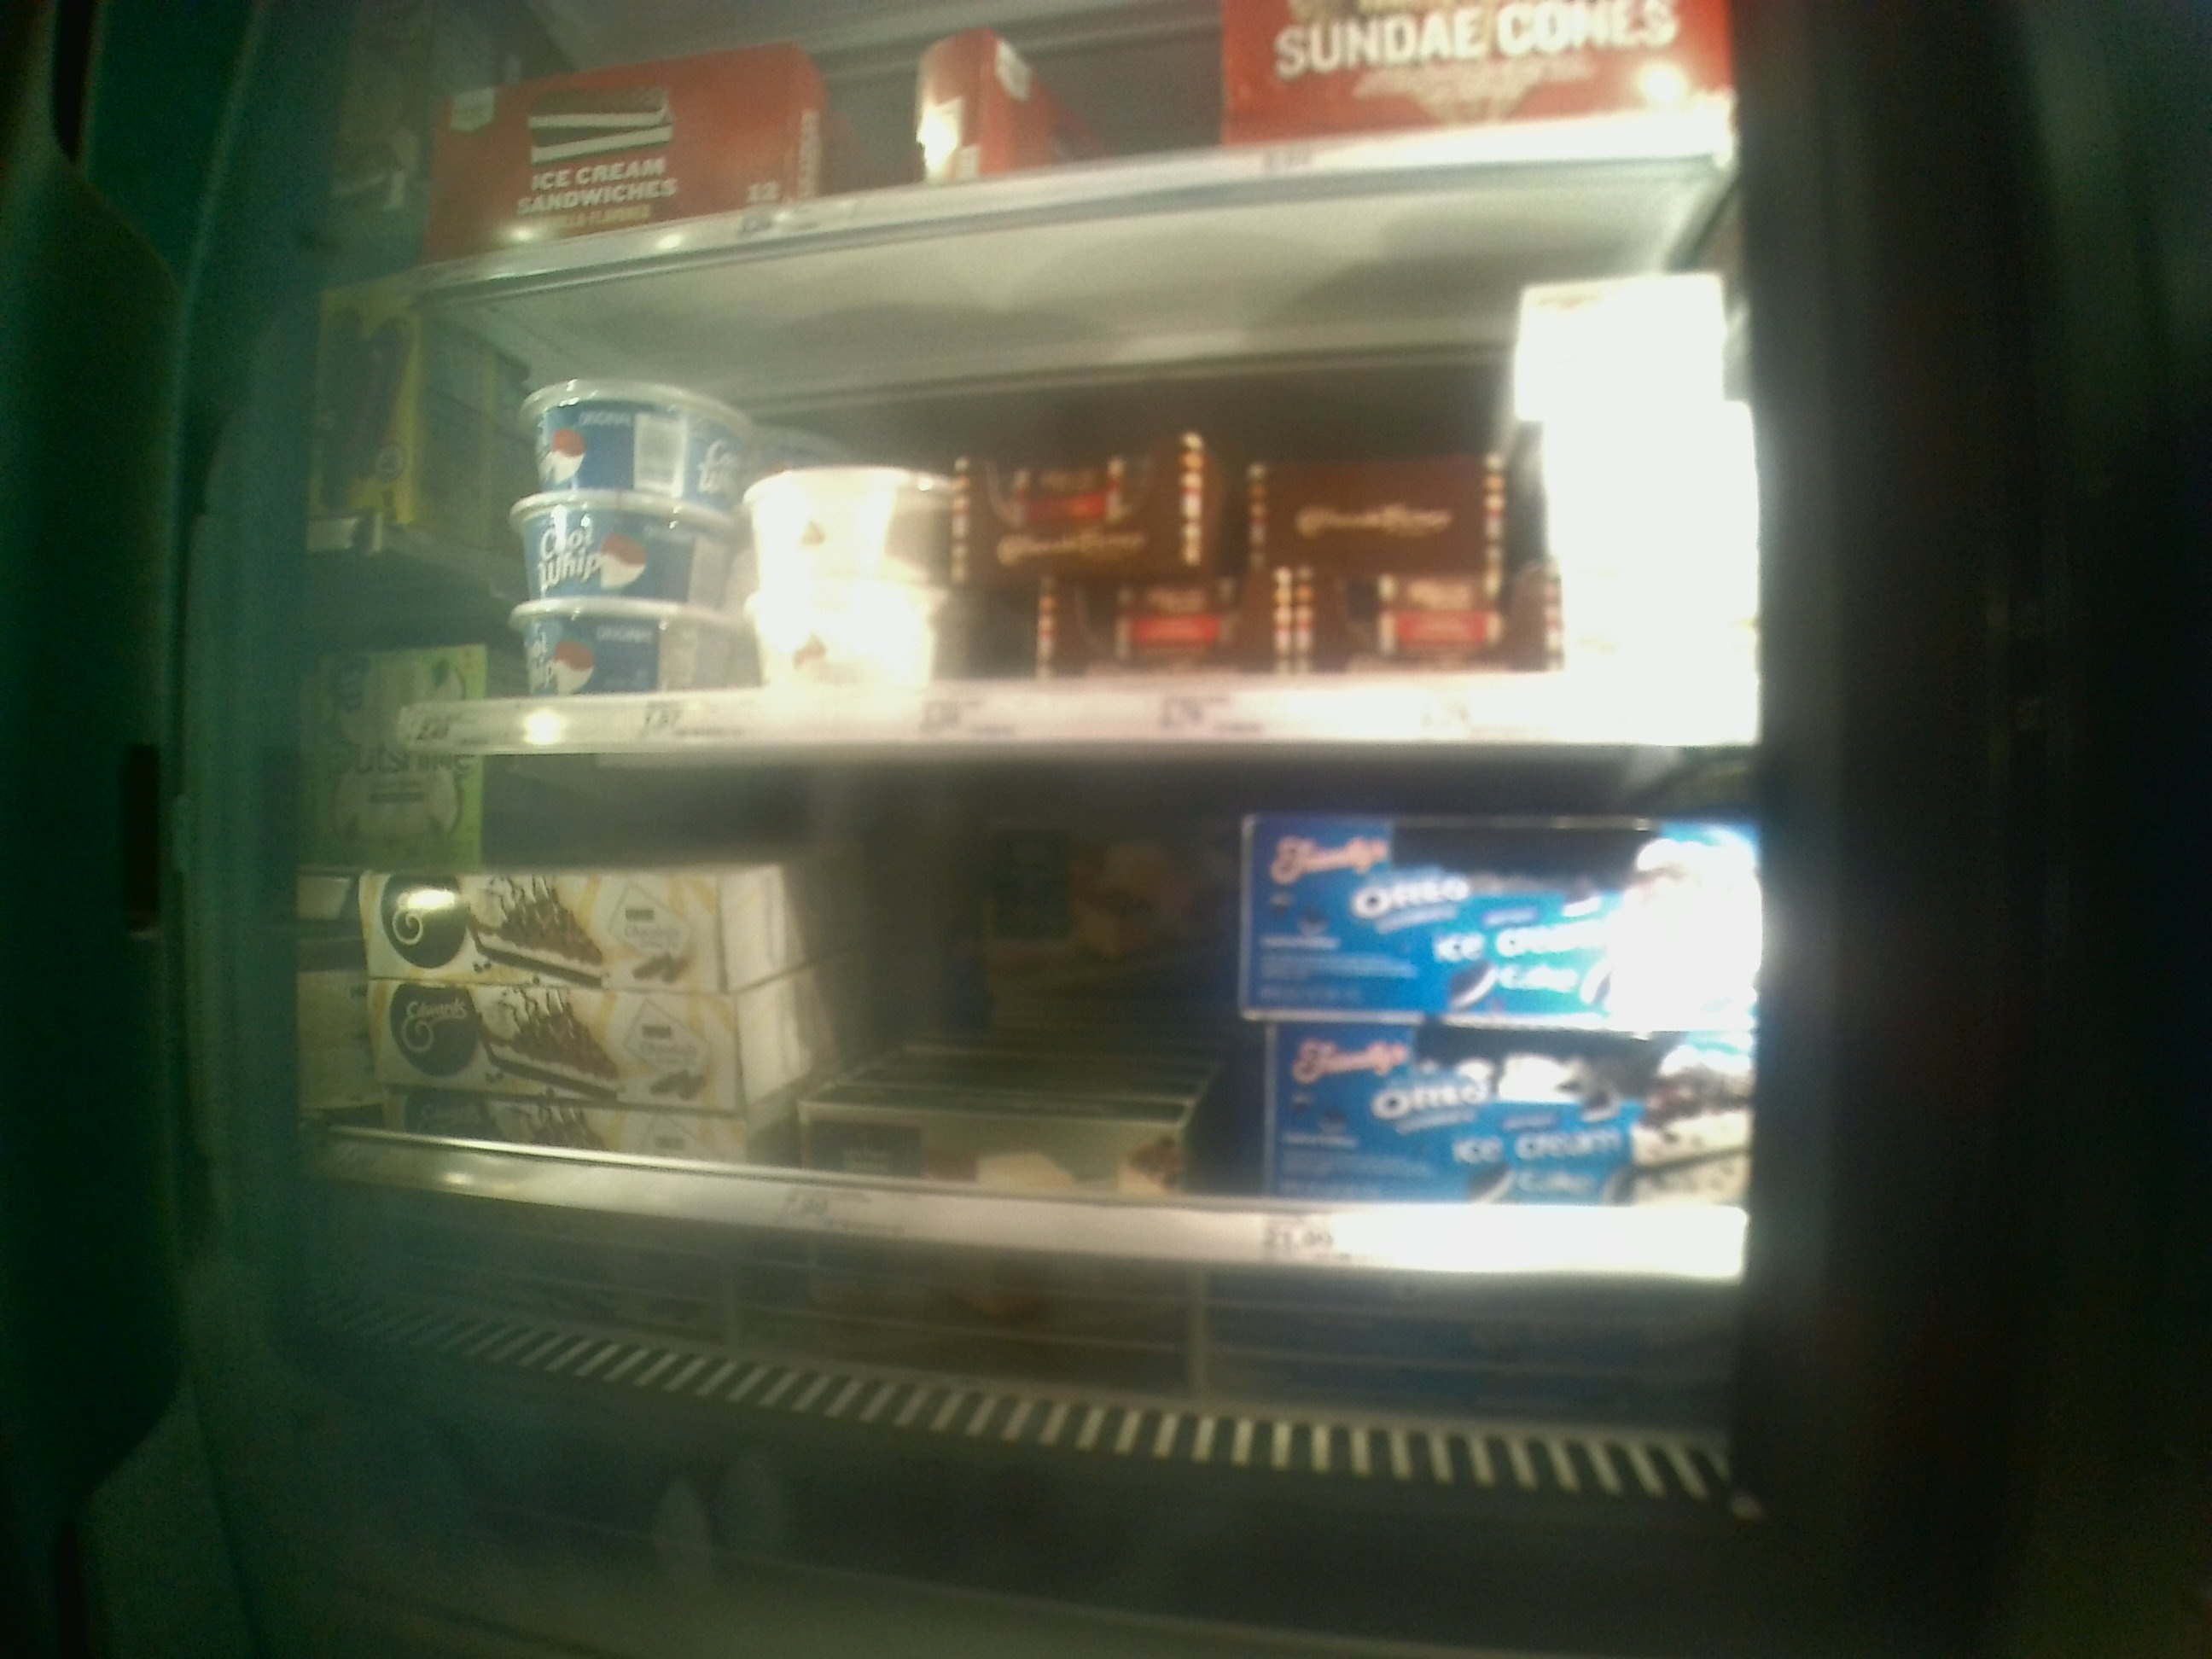shelf: (249, 141, 1754, 739), (261, 742, 1749, 1309)
